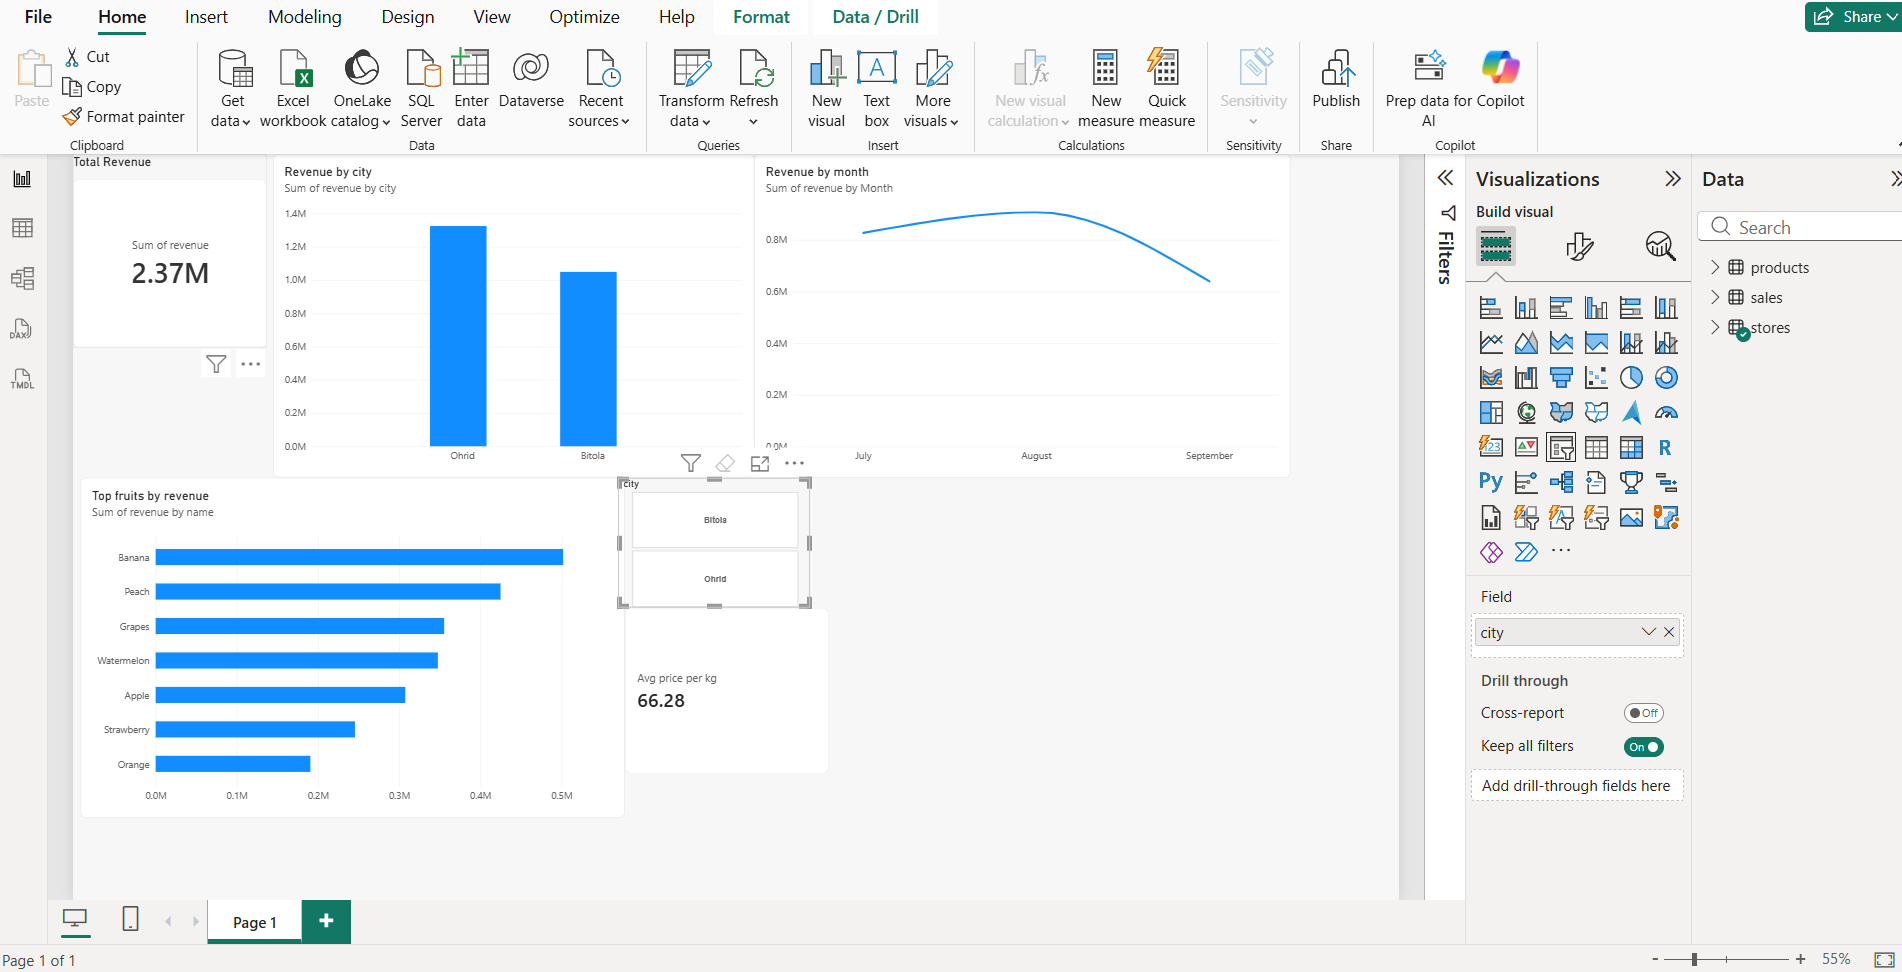

Layout of this report page (visuals, bound fields, positions):
{"tool":"powerbi","page":{"name":"Page 1","canvas":[1920,1080],"ordinal":0},"visuals":[{"type":"cardVisual","title":"Total Revenue","fields":{"Data":["Sum(sales.revenue)"]},"box":[0,0,280,280],"z":0},{"type":"clusteredColumnChart","title":"Revenue by city","fields":{"Category":["stores.city"],"Y":["Sum(sales.revenue)"]},"box":[290,0,696.7,468.3],"z":1000},{"type":"lineChart","title":"Revenue by month","fields":{"Category":["sales.sale_date.Variation.Date Hierarchy.Month"],"Y":["Sum(sales.revenue)"]},"box":[986.7,0,776.3,468.7],"z":2000},{"type":"clusteredBarChart","title":"Top fruits by revenue","fields":{"Category":["products.name"],"Y":["Sum(sales.revenue)"]},"box":[11.7,468.3,788.3,491.7],"z":3000},{"type":"cardVisual","fields":{"Data":["products.Avg price per kg"]},"box":[800,656.7,295,240.7],"z":4001},{"type":"slicer","fields":{"Values":["stores.city"]},"box":[788.3,468.3,280,189],"z":4002}]}

Visuals, with their boxes on the page's 1920x1080 design canvas (x1, y1, x2, y2). These are canvas units, not pixel positions in the 1902x972 screenshot, which may show the page scaled, cropped or inside an application window:
"Total Revenue" cardVisual: (0,0,280,280)
"Revenue by city" clusteredColumnChart: (290,0,987,468)
"Revenue by month" lineChart: (987,0,1763,469)
"Top fruits by revenue" clusteredBarChart: (12,468,800,960)
cardVisual - products.Avg price per kg: (800,657,1095,897)
slicer - stores.city: (788,468,1068,657)
